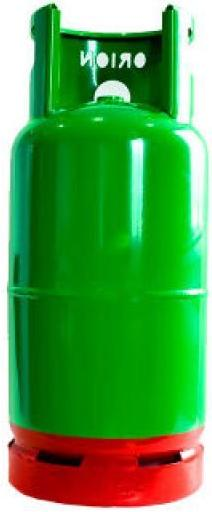cylinder: (1, 1, 212, 512)
